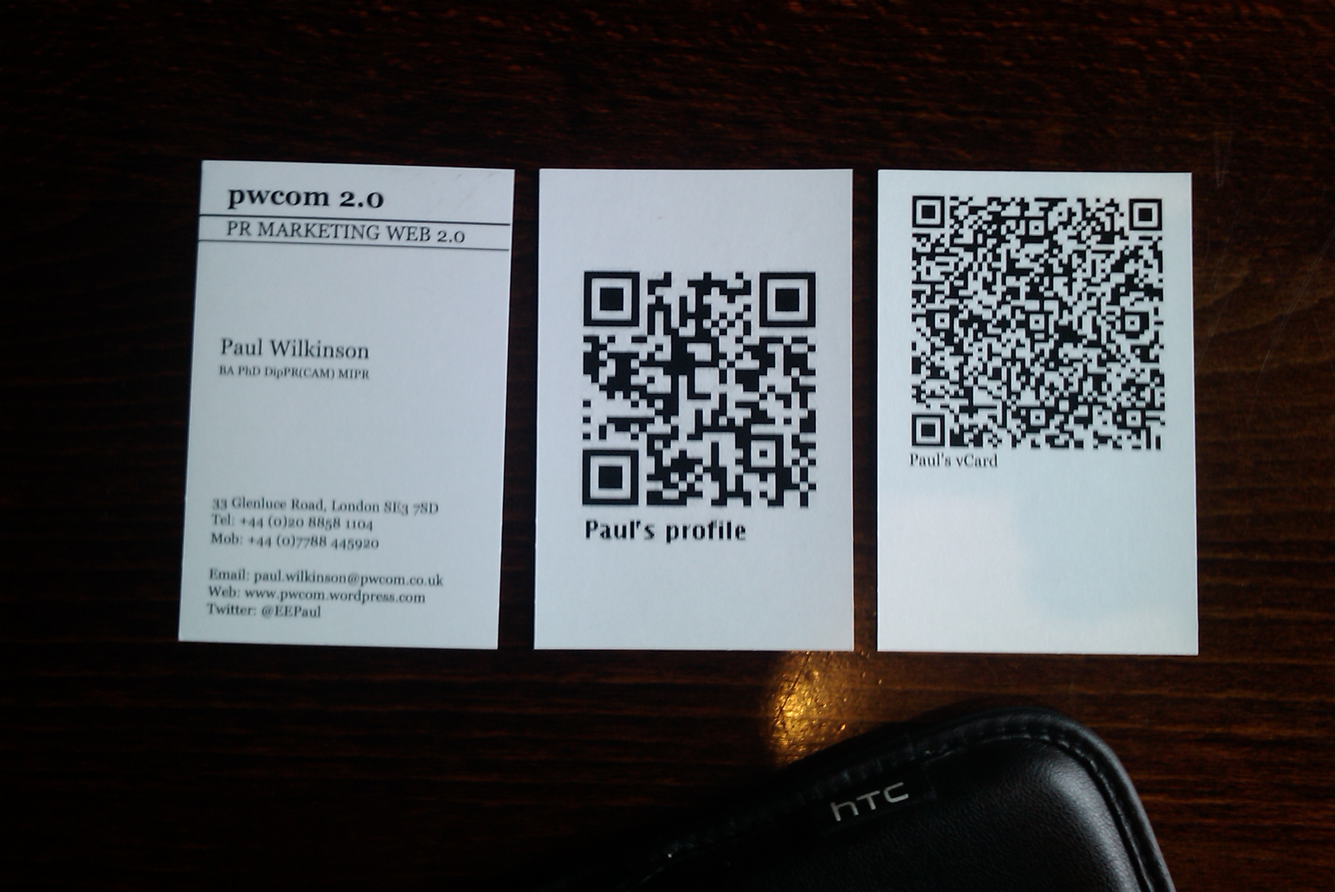QR-CODE: (912, 195, 1165, 449), (582, 271, 815, 506)
